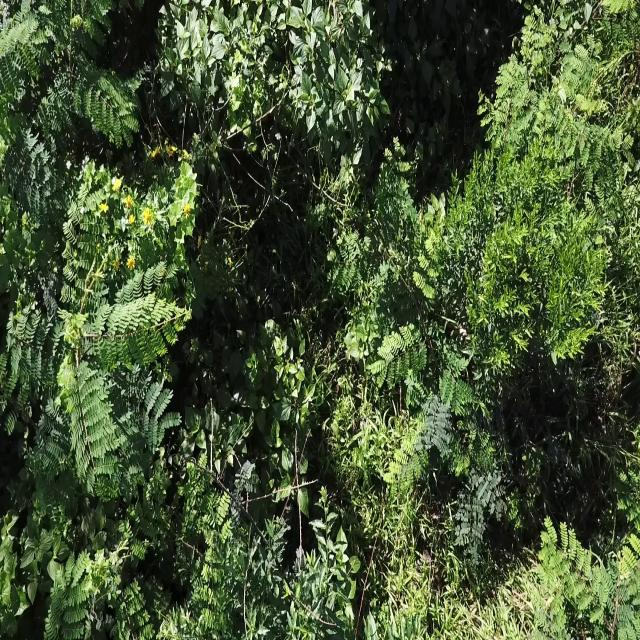Mysore-Thorn-Weed: (3, 105, 194, 508), (365, 312, 508, 568), (334, 137, 472, 400), (474, 10, 614, 163), (0, 0, 142, 148), (526, 508, 640, 640), (158, 483, 251, 640), (45, 551, 158, 640)
